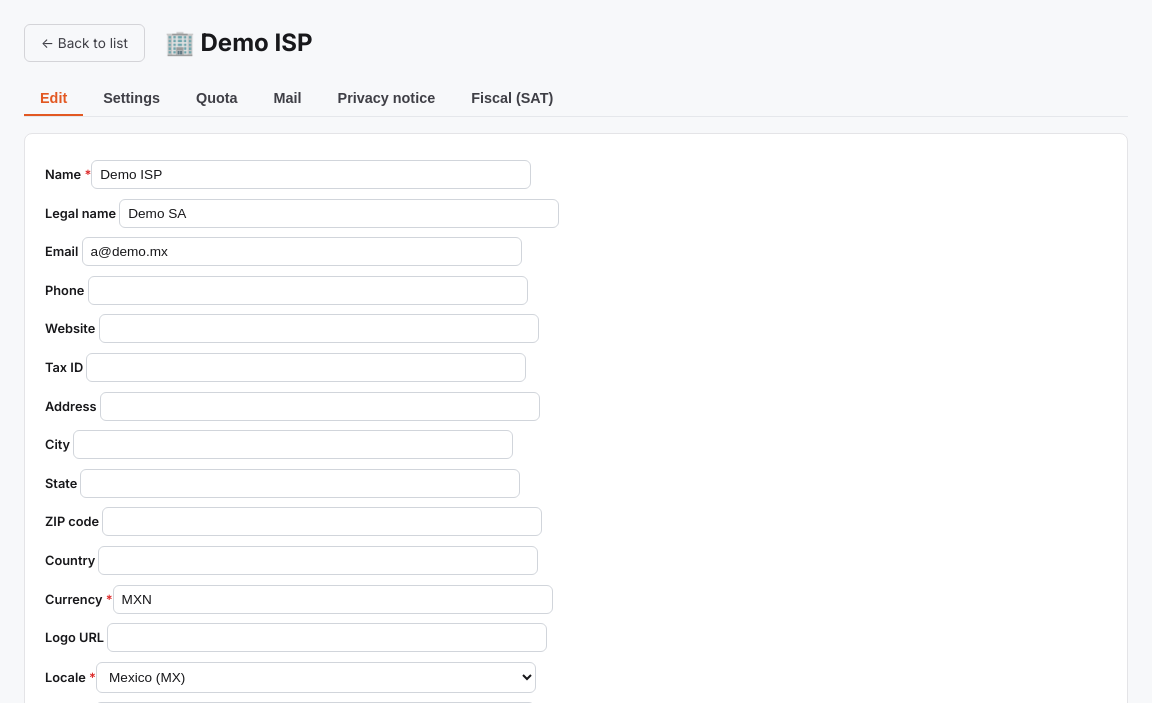
Scenario: OrganizationDetail page › re-syncs the Fiscal form from the server after save (no false blank-serie state)
Expected: the heading "🏢 Demo ISP" is shown, [165,25,312,61]
Step 1. Click the button "Fiscal (SAT)" → x=512, y=99, box [455,82,569,116]
(page scrolled)
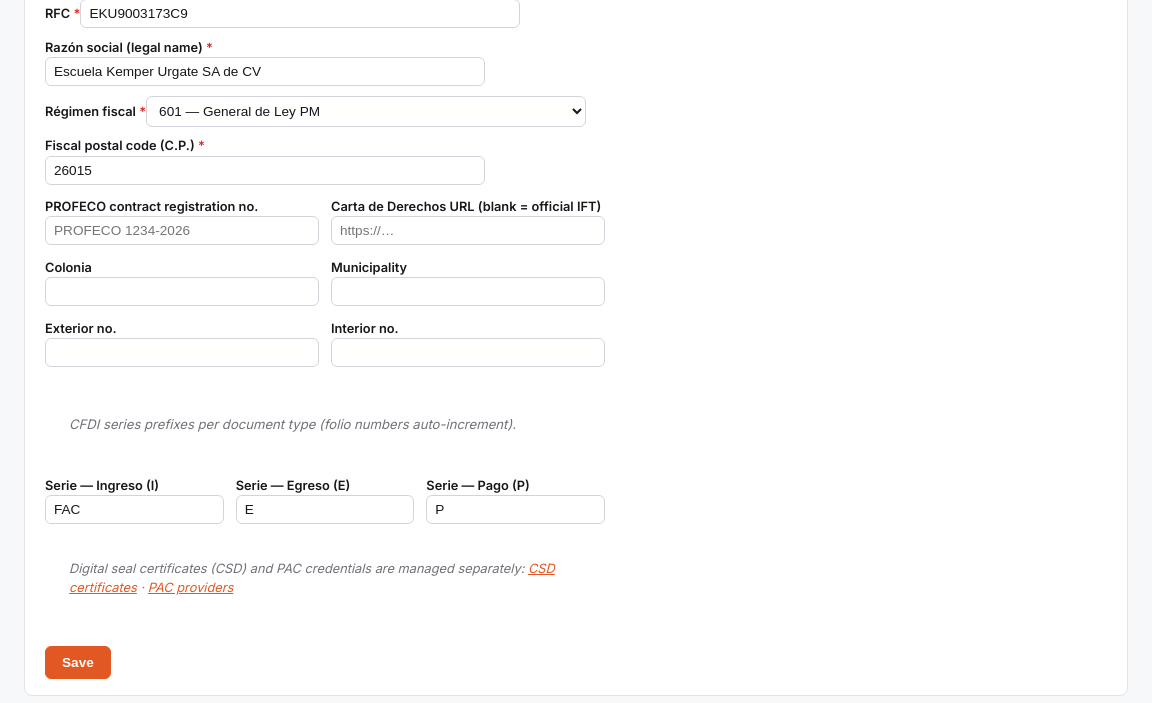
Step 2. Clear the field showing "FAC" → x=134, y=510, box [45,495,224,524]
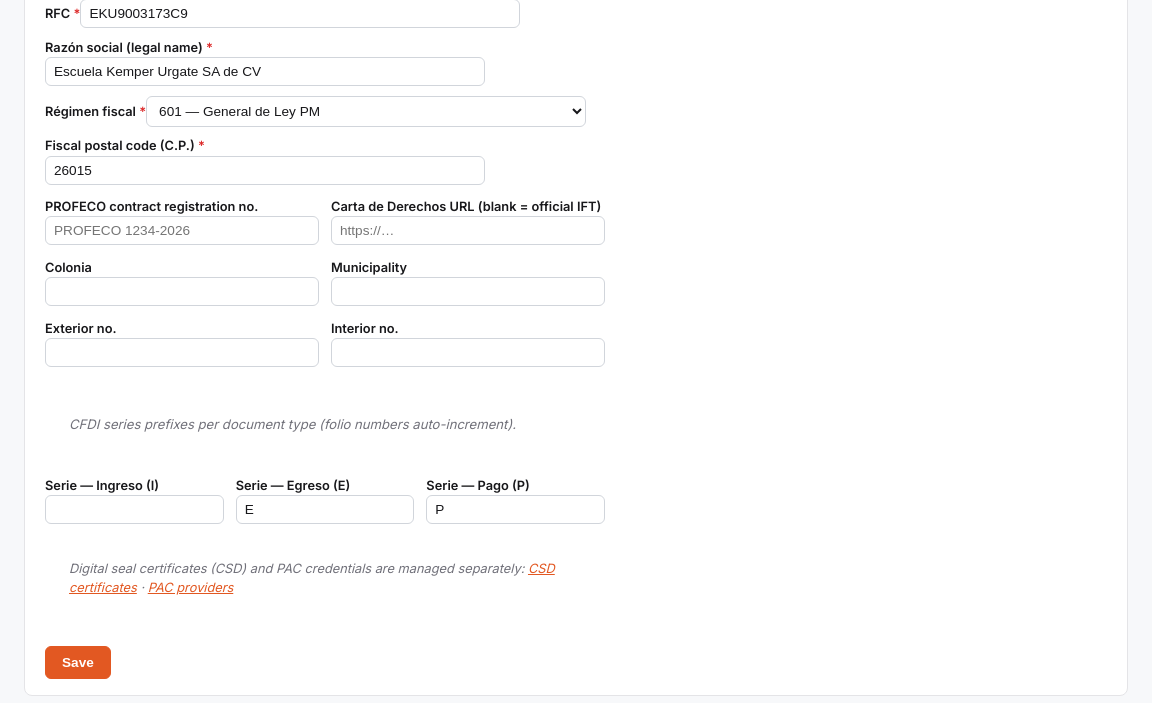
Step 3. Click the button "Save" → x=78, y=662, box [45,646,111,679]
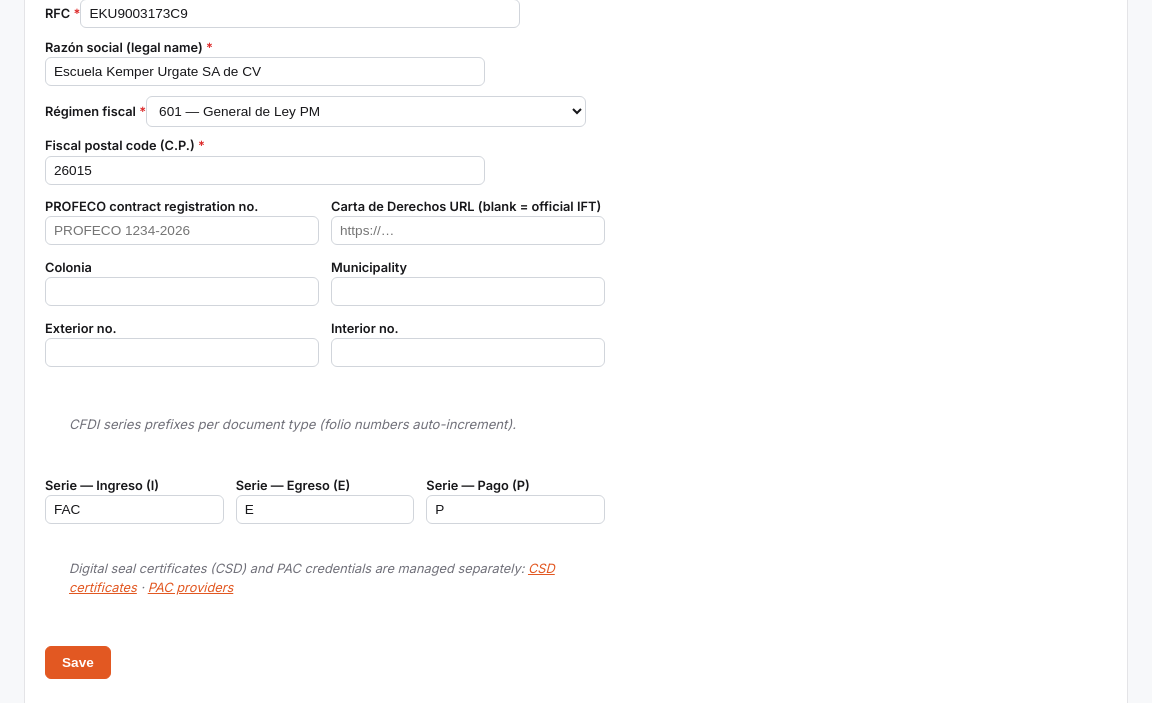
Expected: the field showing "FAC" is shown, [45,495,224,524]
